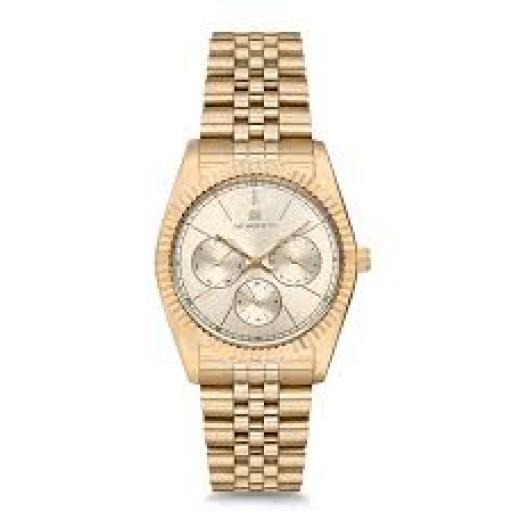KolSaati: (139, 15, 414, 511)
